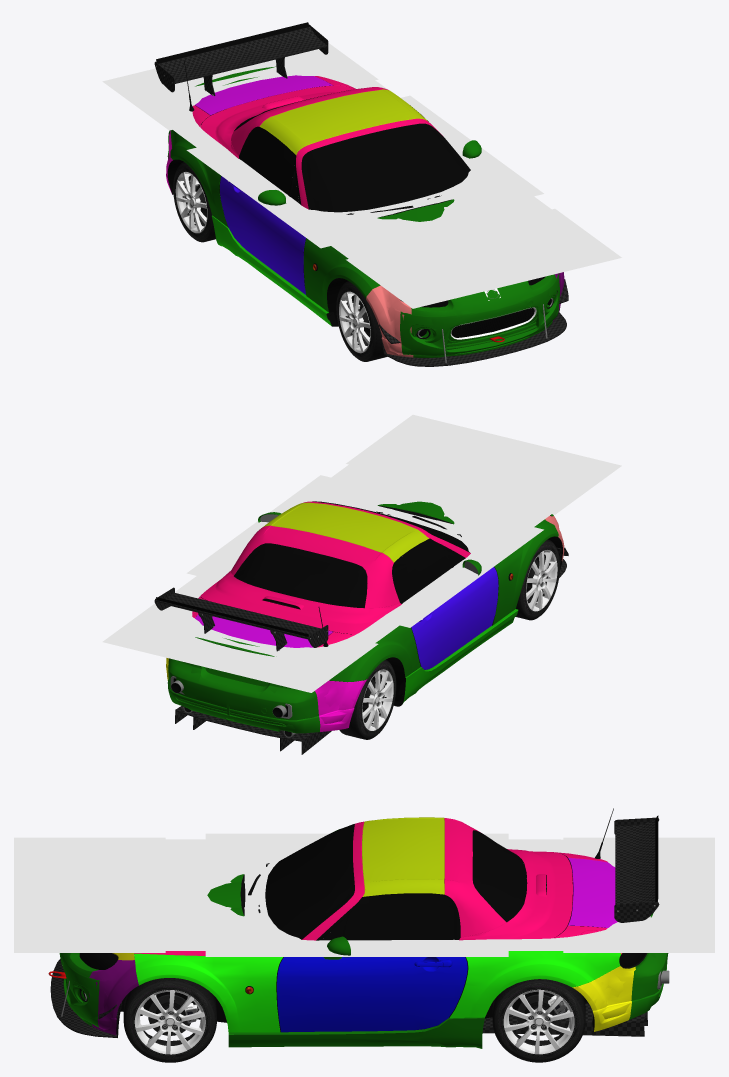
3 views of the same model, one above another, from view 1: azimuth 30°, elevation 25°; view 2: azimuth 150°, elevation 25°; view 3: azimuth 270°, elevation 25° (orthographic). The views are drawn at different scales.
Parts seen in each view (by area): view 1: neon (×4), shadow, maz_roadster_07_body_body_, maz_roadster_07_glassF_window_, maz_roadster_07_wingrace_carbon_fiber_, maz_roadster_07_bumperFb_body_, maz_roadster_07_bumperFc_body_, maz_roadster_07_bumperFa_body_, maz_roadster_07_wheel_rim_ (×2), maz_roadster_07_trunk_body_, maz_roadster_07_bumperFrace_carbon_fiber_, maz_roadster_07_glassRR_window_ (+8 smaller); view 2: neon (×4), maz_roadster_07_body_body_, shadow, maz_roadster_07_bumperRc_body_, maz_roadster_07_glassR_window_, maz_roadster_07_wingrace_carbon_fiber_, maz_roadster_07_wheel_rim_ (×2), maz_roadster_07_bumperRb_body_, maz_roadster_07_glassRR_window_, maz_roadster_07_wheel_tire_ (×2), maz_roadster_07_glassR_black_glass_, maz_roadster_07_skirtRb_body_ (+6 smaller); view 3: maz_roadster_07_body_body_, neon (×4), shadow, maz_roadster_07_glassF_window_, maz_roadster_07_wheel_tire_ (×2), maz_roadster_07_skirtLb_body_, maz_roadster_07_glassLR_window_, maz_roadster_07_wheel_rim_ (×2), maz_roadster_07_wingrace_carbon_fiber_, maz_roadster_07_trunk_body_, maz_roadster_07_bumperRc_body_, maz_roadster_07_bumperFb_body_ (+15 smaller).
Boxes of the visible parts, x1,y1,x2,y2 form: neon (×4): (102,43,621,308); shadow: (163,63,566,279); maz_roadster_07_body_body_: (170,76,443,312); maz_roadster_07_glassF_window_: (306,127,467,211); maz_roadster_07_wingrace_carbon_fiber_: (154,24,328,95); maz_roadster_07_bumperFb_body_: (366,273,560,356); maz_roadster_07_bumperFc_body_: (369,282,555,357); maz_roadster_07_bumperFa_body_: (366,272,564,349); maz_roadster_07_wheel_rim_ (×2): (175,172,370,353); maz_roadster_07_trunk_body_: (195,75,332,115); maz_roadster_07_bumperFrace_carbon_fiber_: (377,279,568,366); maz_roadster_07_glassRR_window_: (241,127,295,194); neon (×4): (102,414,621,692); maz_roadster_07_body_body_: (192,501,558,682); shadow: (163,443,565,660); maz_roadster_07_bumperRc_body_: (166,658,366,733); maz_roadster_07_glassR_window_: (242,549,360,599); maz_roadster_07_wingrace_carbon_fiber_: (154,587,328,651); maz_roadster_07_wheel_rim_ (×2): (362,550,557,730); maz_roadster_07_bumperRb_body_: (167,666,360,732); maz_roadster_07_glassRR_window_: (393,540,451,602); maz_roadster_07_wheel_tire_ (×2): (339,539,559,739); maz_roadster_07_glassR_black_glass_: (234,543,366,607); maz_roadster_07_skirtRb_body_: (402,609,518,703); maz_roadster_07_body_body_: (134,817,622,1032); neon (×4): (14,833,714,956); shadow: (64,839,653,950); maz_roadster_07_glassF_window_: (268,826,349,935); maz_roadster_07_wheel_tire_ (×2): (123,978,585,1062); maz_roadster_07_skirtLb_body_: (228,1017,484,1048); maz_roadster_07_glassLR_window_: (346,894,454,940); maz_roadster_07_wheel_rim_ (×2): (135,989,574,1054); maz_roadster_07_wingrace_carbon_fiber_: (614,817,659,922); maz_roadster_07_trunk_body_: (568,858,617,927); maz_roadster_07_bumperRc_body_: (572,953,667,1031); maz_roadster_07_bumperFb_body_: (61,953,138,1030).
Size of the model in its own units: 3.5 by 1.22 by 4.63.
